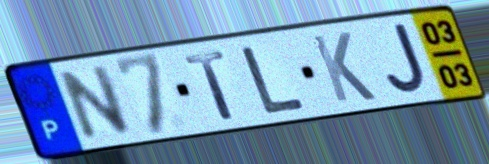7: (111, 50, 168, 139)
J: (384, 20, 429, 97)
K: (307, 29, 380, 105)
L: (239, 43, 310, 117)
N: (57, 62, 135, 144)
T: (180, 48, 240, 123)
